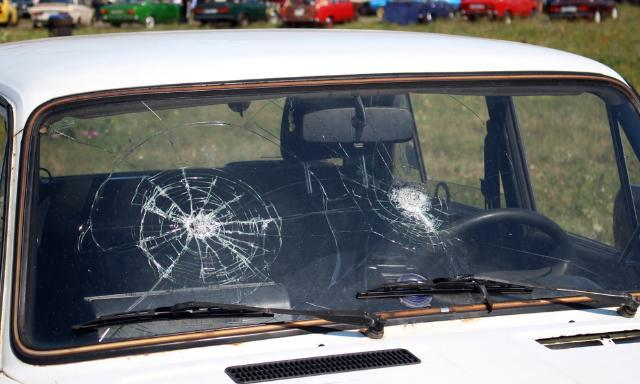glass shatter: (25, 81, 640, 349)
